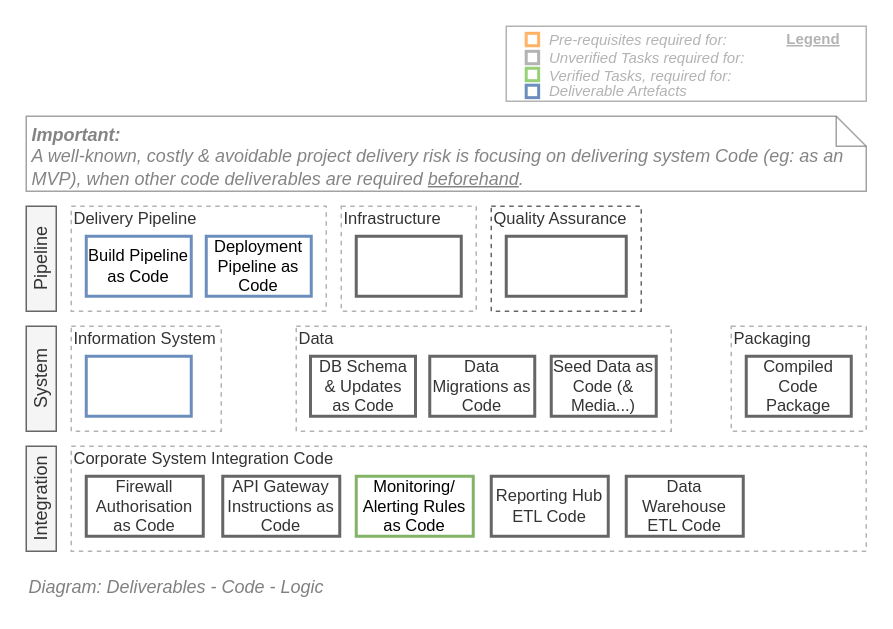
The diagram is 893 pixels wide and 629 high, and some of its shapes have lost their labels. The shapes that lost their labels are listed below. From the top down, each one's centre as x and y in pixels, then its label:
(x=408, y=265): Infrastructure as Code
(x=565, y=265): Quality & Functionality Assurance as Code
(x=138, y=385): Logic as Code ("Code")
